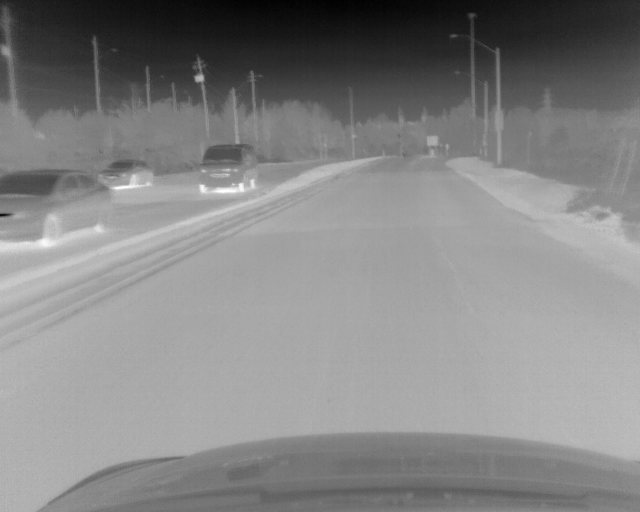car: (1, 169, 115, 246), (198, 145, 259, 193), (99, 158, 155, 189)
